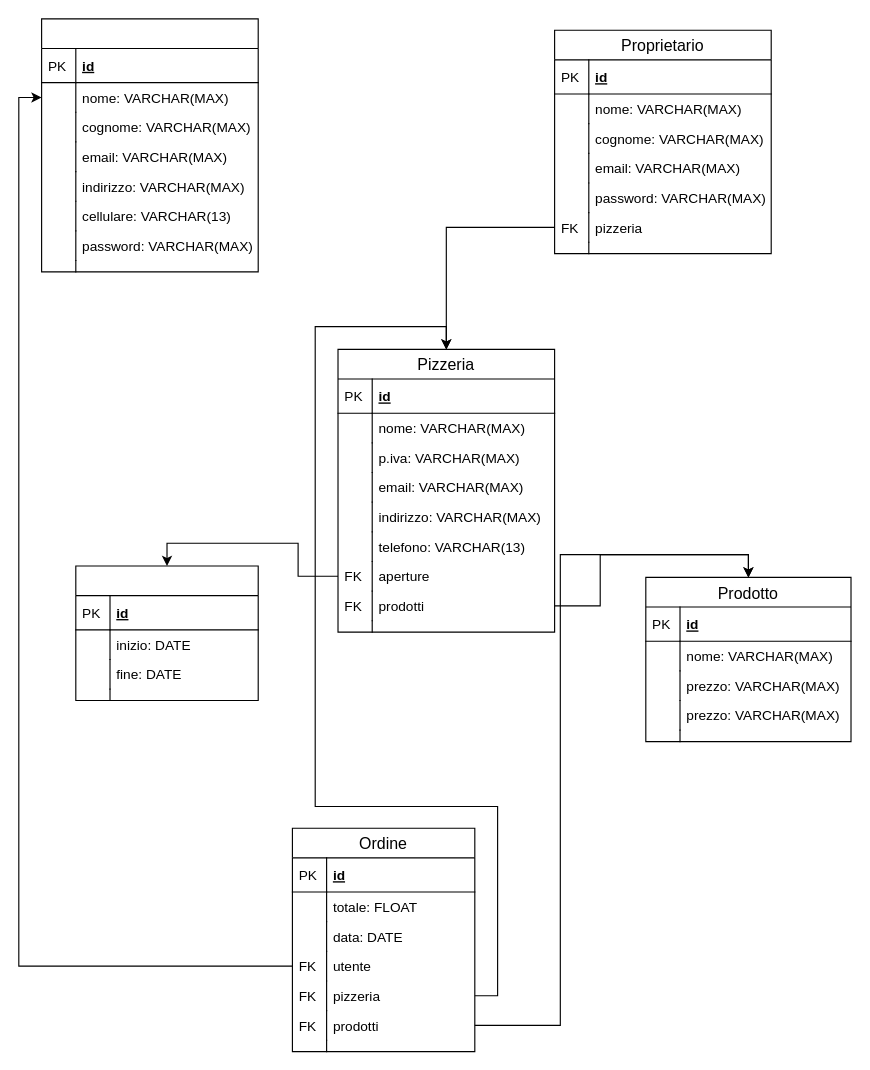
The diagram is 870 pixels wide and 1070 high, and some of its shapes have lost their labels. The shapes that lost their labels are listed below. From the top down, each one's box as (x1, y1, x2, y2) in pixels, then its label:
(40, 18, 258, 272): User
(75, 565, 258, 701): Apertura
